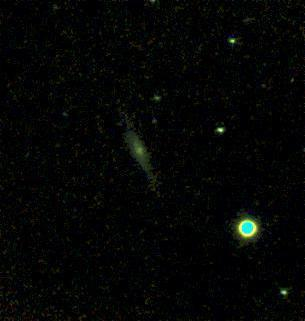star: (210, 117, 240, 147)
